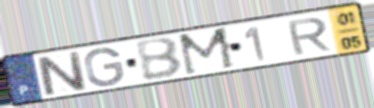1: (243, 25, 267, 63)
B: (133, 36, 186, 83)
G: (83, 46, 127, 88)
M: (176, 25, 239, 78)
N: (33, 50, 90, 98)
R: (285, 16, 334, 57)
